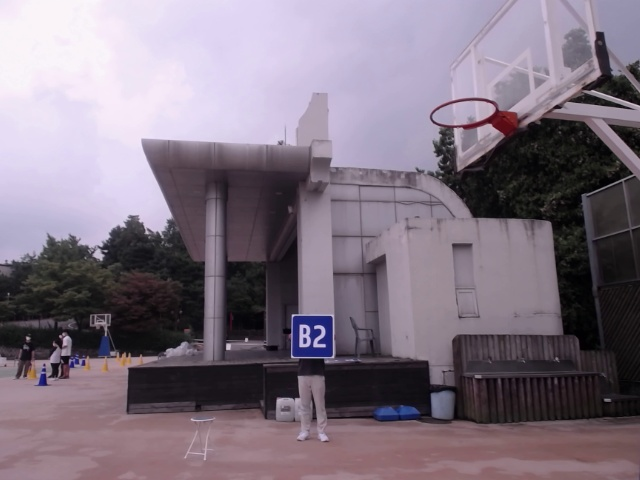delivery_b2: (292, 314, 335, 359)
